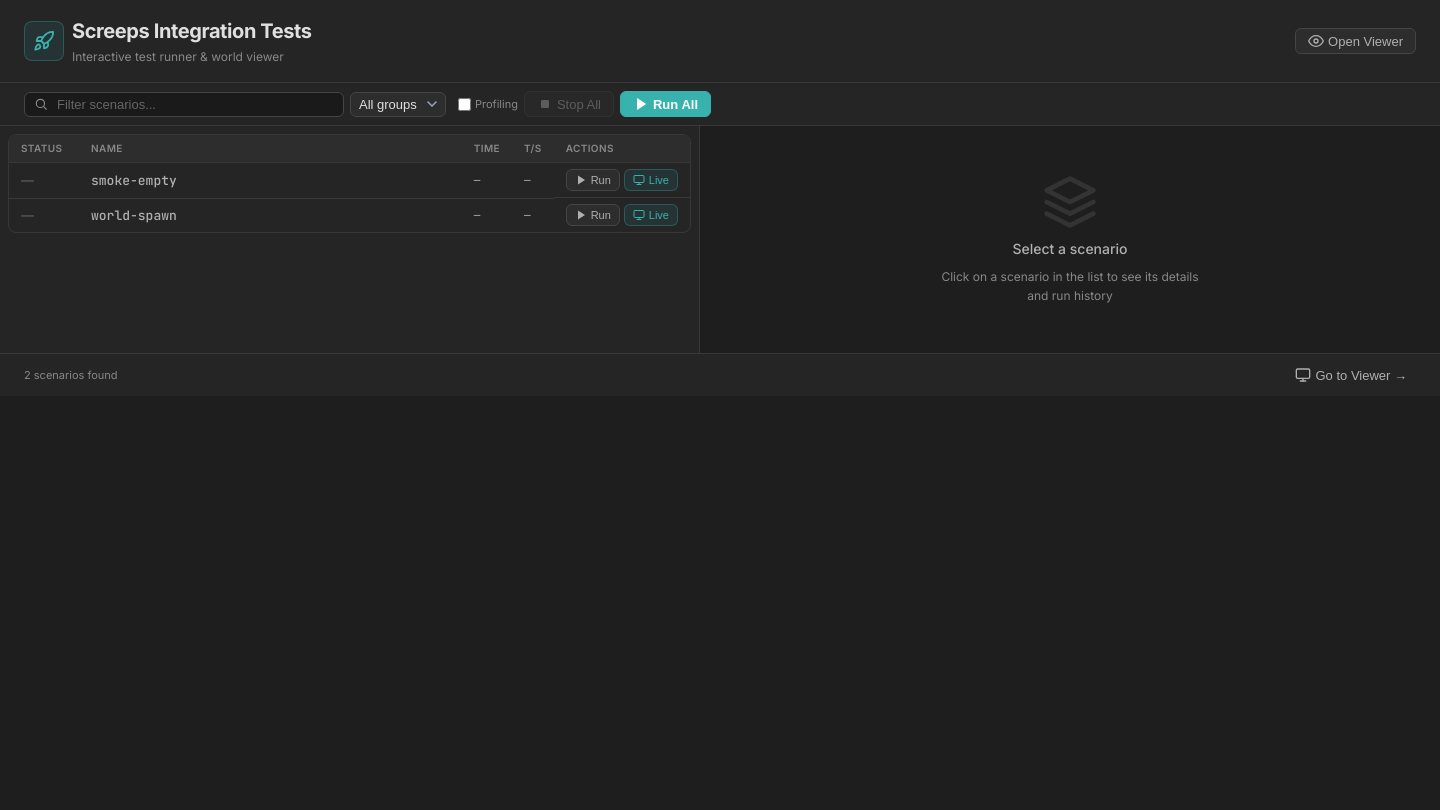
Test case: ScenarioManager Snapshots tab › switches to Snapshots tab on click
This screenshot has width=1440, height=810.
Step 1. Click the text "smoke-empty" → [270, 180], box left=79, top=162, right=462, bottom=198
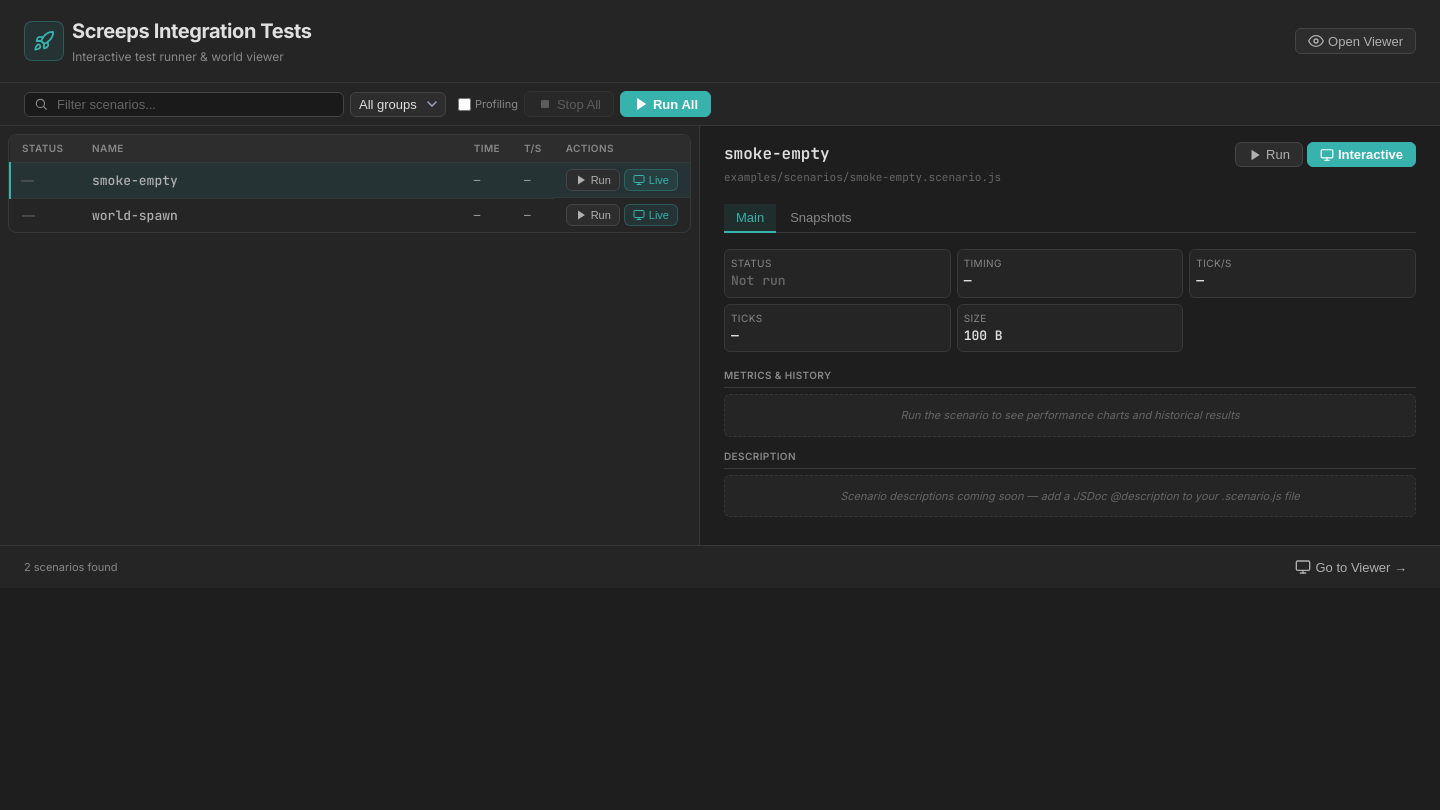
Step 2. Click the button "Snapshots" → [821, 218], box left=778, top=204, right=864, bottom=233
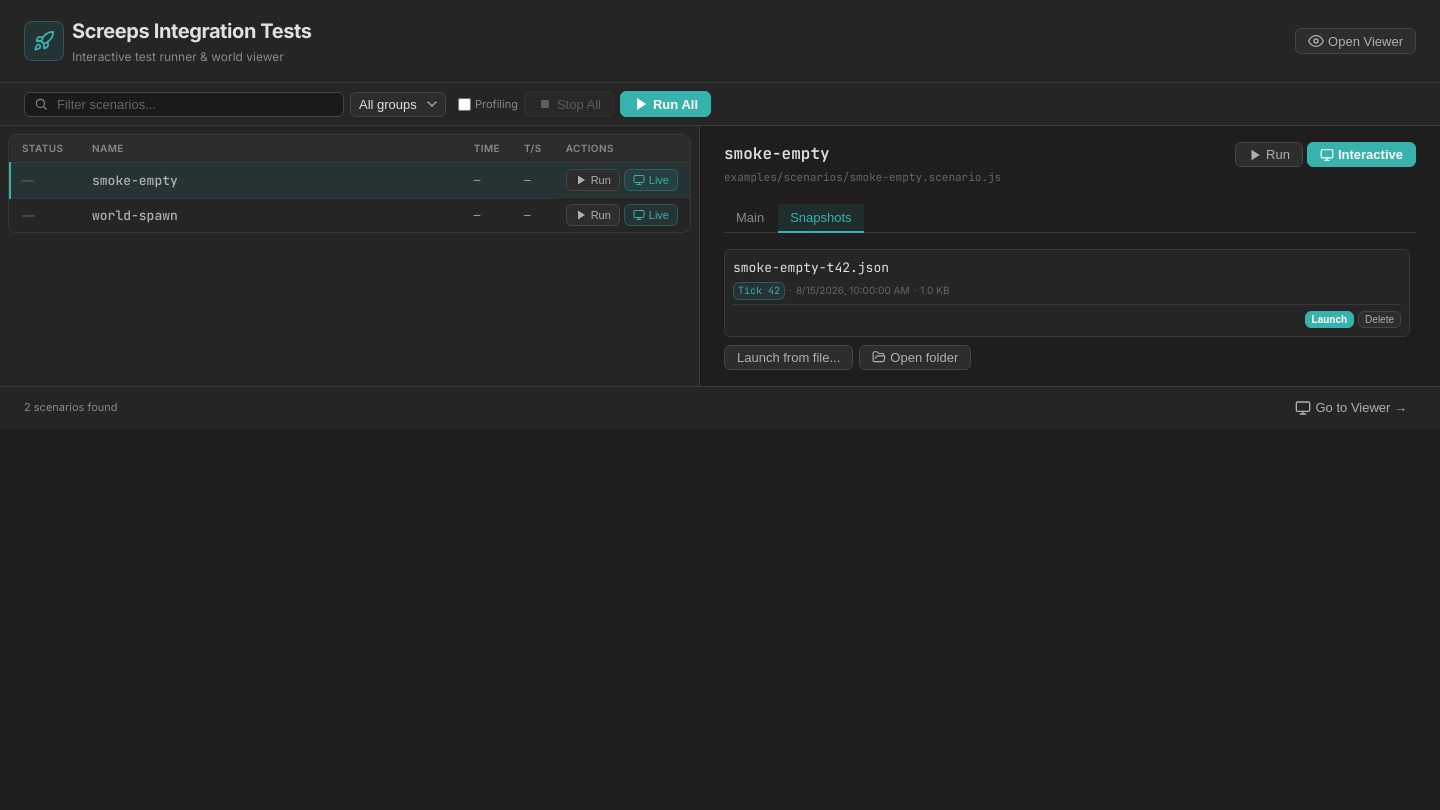
Check: the text "smoke-empty-t42.json" is shown, box left=733, top=258, right=889, bottom=278
